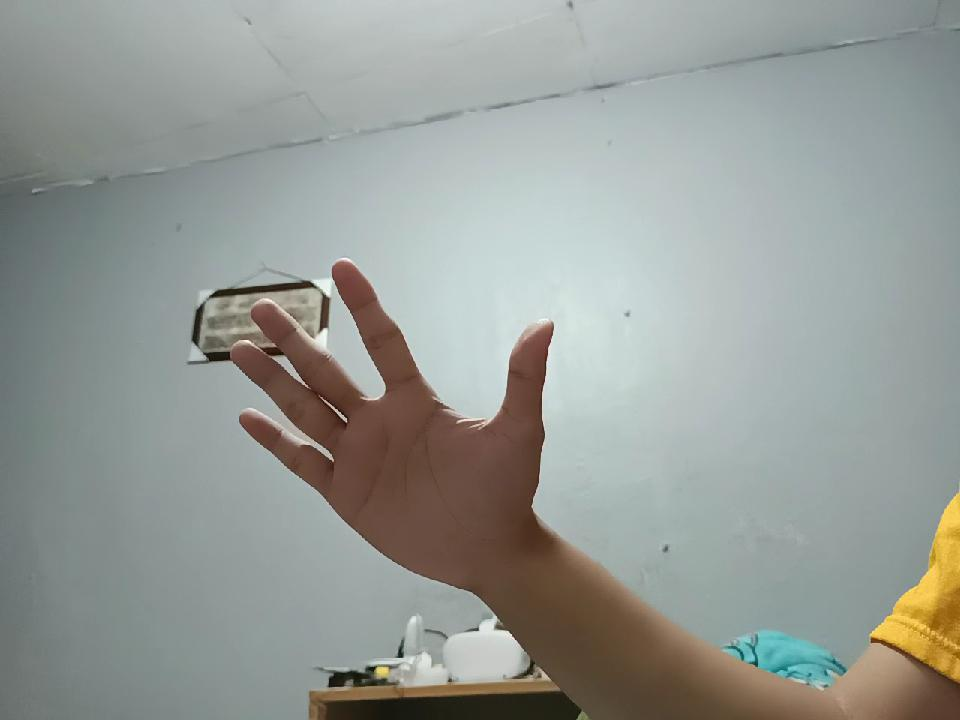paper: (227, 258, 575, 592)
